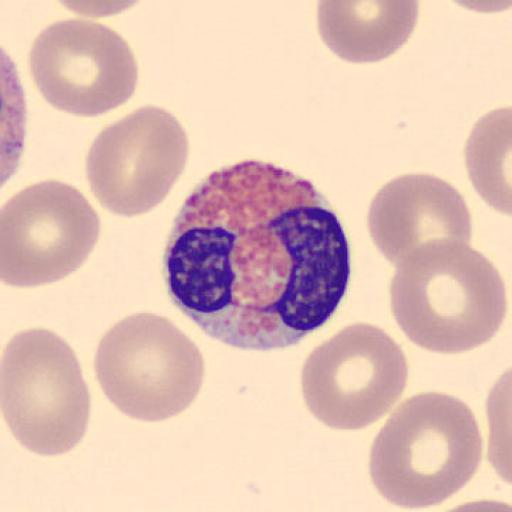RBC: (387, 235, 508, 357), (367, 389, 483, 511), (91, 310, 208, 424), (298, 320, 410, 434), (85, 104, 191, 218), (2, 325, 92, 459), (26, 17, 140, 120), (2, 177, 102, 290), (366, 170, 474, 274), (315, 0, 421, 66), (0, 31, 40, 199), (463, 103, 512, 219), (485, 366, 512, 490), (50, 0, 155, 18), (418, 498, 512, 512), (438, 0, 512, 16), (460, 0, 511, 16)
WBC: (162, 158, 353, 353), (0, 42, 28, 195)
